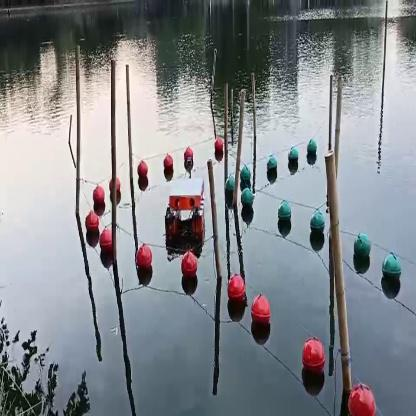green_buoy: (382, 248, 401, 290), (351, 230, 371, 269), (275, 198, 294, 233), (308, 214, 324, 242), (284, 144, 298, 172), (304, 135, 319, 160), (224, 172, 235, 204), (242, 185, 252, 217), (266, 154, 278, 180), (242, 163, 251, 186)
red_buoy: (344, 384, 379, 413), (302, 336, 323, 378), (253, 294, 271, 329), (181, 254, 200, 286), (136, 246, 156, 276), (226, 275, 245, 306), (84, 209, 98, 241), (100, 230, 111, 258), (134, 158, 148, 179), (92, 184, 102, 207), (214, 134, 223, 156), (184, 146, 192, 166), (165, 154, 170, 176)
